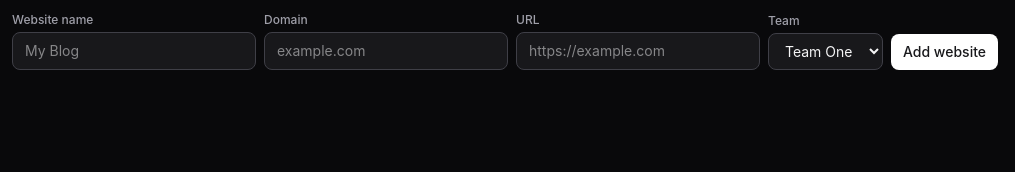
it: AddWebsiteForm › auto-fills the URL from the domain and adds the website
Expected: the dropdown labelled "Team" shows "Team One", [768,33,883,70]
Type "Blog" into the field labelled "Website name".
click(134, 51); type("Blog")  # box [12,32,256,70]
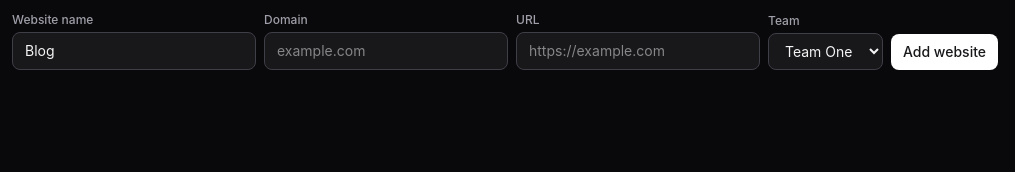
Type "blog.example" into the field labelled "Domain".
click(386, 51); type("blog.example")  # box [264,32,508,70]
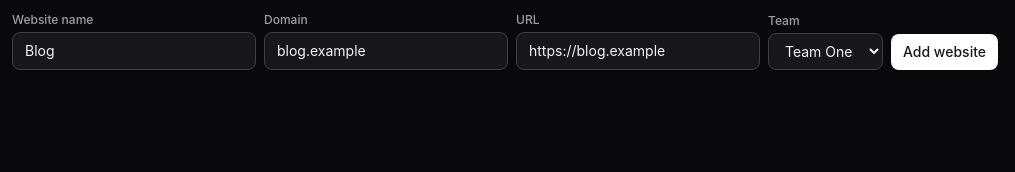
Expected: the field labelled "URL" holds "https://blog.example", [516,32,760,70]
Click the button "Add website".
click(944, 52)  # box [891,34,998,70]
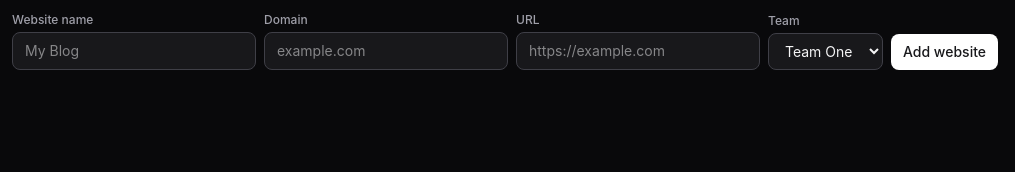
Expected: the field labelled "Website name" is empty, [12,32,256,70]
